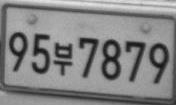5: (30, 33, 50, 74)
7: (124, 40, 146, 82), (78, 36, 99, 78)
8: (100, 38, 121, 80)
9: (147, 41, 170, 83), (7, 30, 29, 71)
부: (52, 41, 73, 76)
